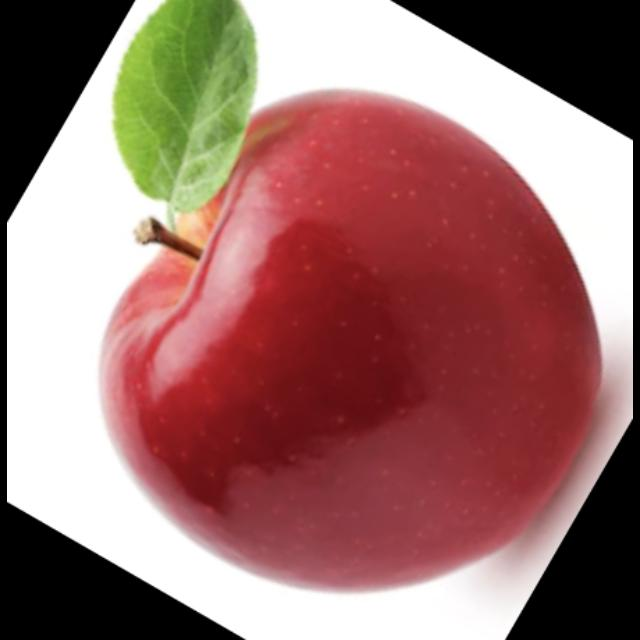Apel Segar: (91, 79, 628, 586)
